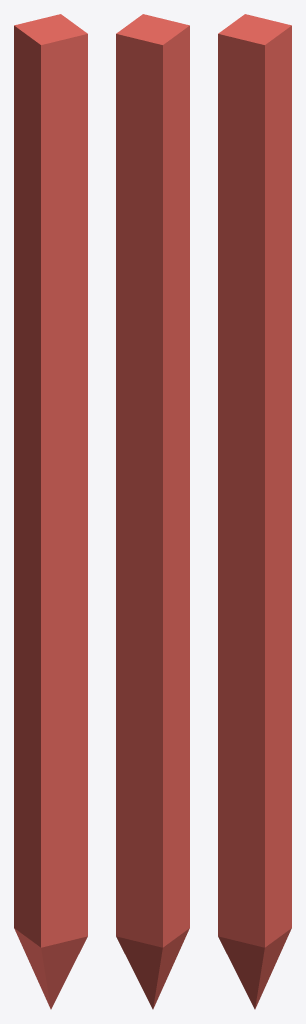
File: hazard_stake_red_01.glb
3 renders of one model, left to right at view 1: azimuth 30°, elevation 25°; view 2: azimuth 150°, elevation 25°; view 3: azimuth 330°, elevation 25°, orthographic.
Visible parts, largest first — view 1: Hazard_stake_red_01; view 2: Hazard_stake_red_01; view 3: Hazard_stake_red_01.
Boxes of the visible parts, bbox=[...] form: Hazard_stake_red_01: bbox=[14, 14, 87, 1009]; Hazard_stake_red_01: bbox=[116, 14, 189, 1009]; Hazard_stake_red_01: bbox=[218, 14, 291, 1009].
Size of the model in its own units: 0.05 by 1 by 0.05.
